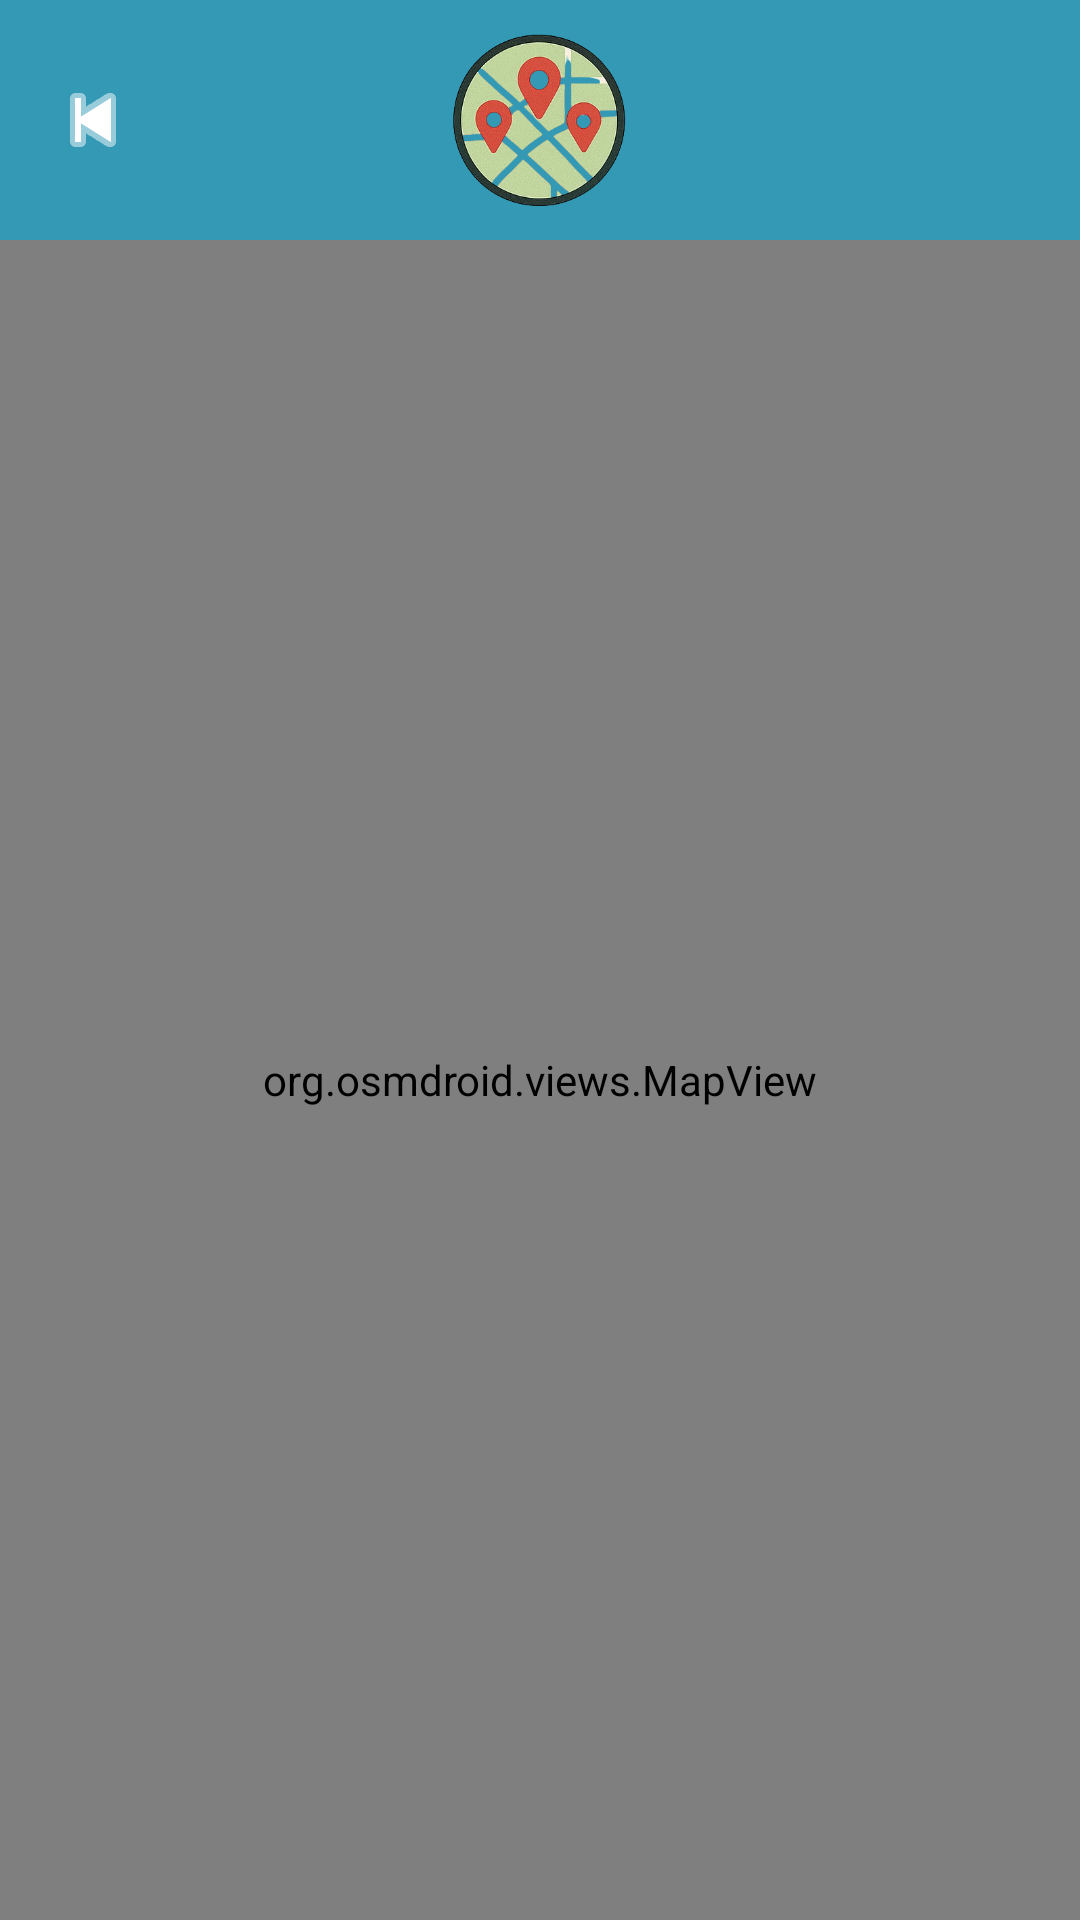

Icons on this 1080 x 1920 Android screen, each with its box as (x1, y1, x2, y2):
Volver: (70, 93, 116, 147)
